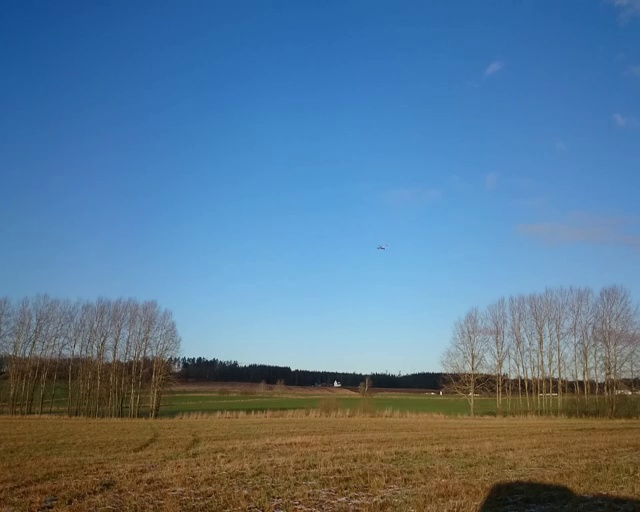DRONE: (377, 243, 388, 250)
